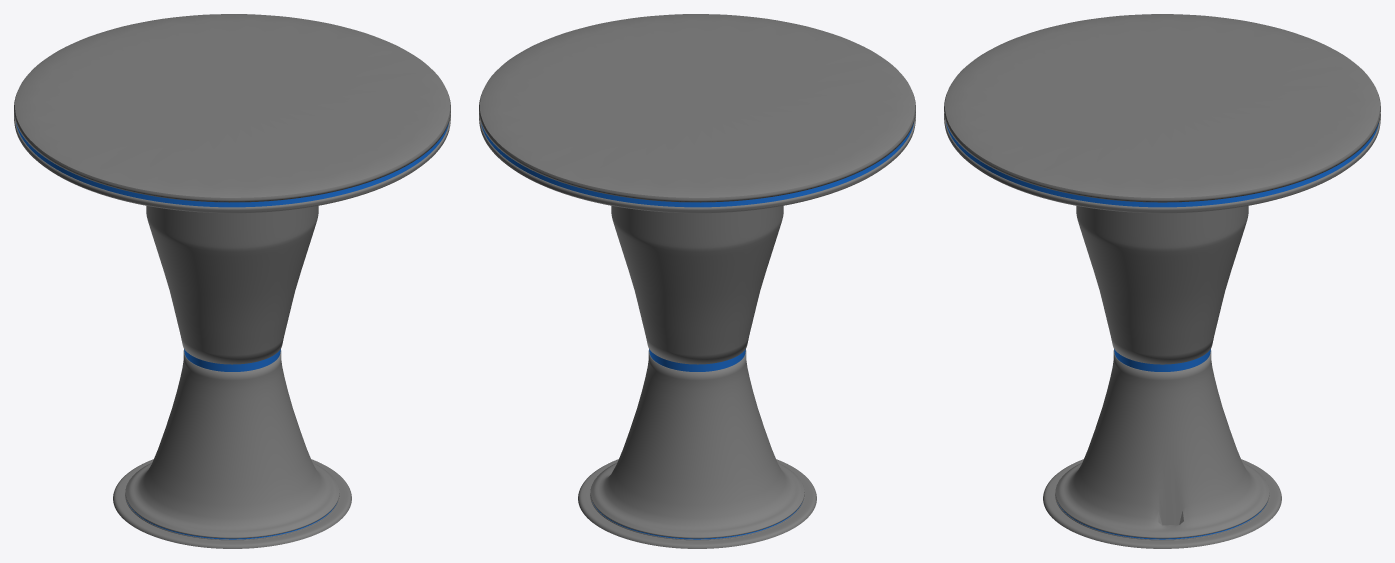
Rendered from yuvarlakmasa1.fbx.
The picture shows the model from 3 angles, left to right: view 1: azimuth 30°, elevation 25°; view 2: azimuth 150°, elevation 25°; view 3: azimuth 270°, elevation 25°; orthographic projection.
Visible parts, largest first — view 1: Cylinder; view 2: Cylinder; view 3: Cylinder.
Part boxes in pixels (left/top/right/bottom): Cylinder: left=14, top=14, right=450, bottom=548; Cylinder: left=479, top=14, right=915, bottom=548; Cylinder: left=944, top=14, right=1380, bottom=548.
Bounding box in the file's own units: 2.52 × 2.52 × 2.52.
